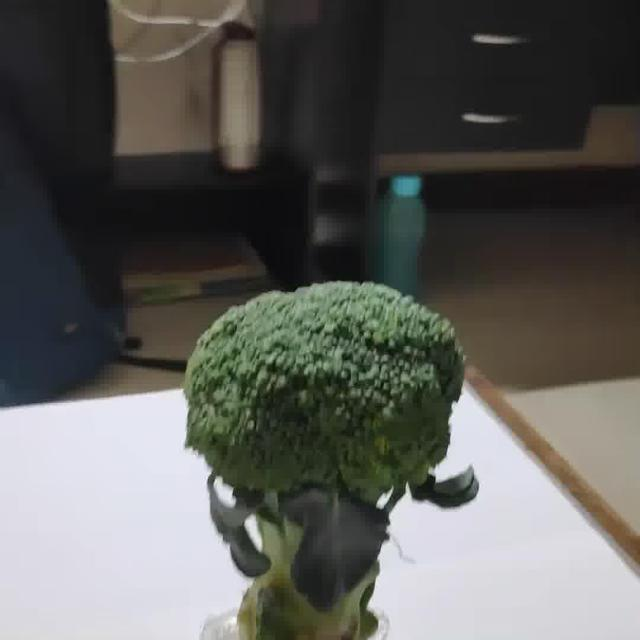Broccoli: (184, 282, 478, 639)
